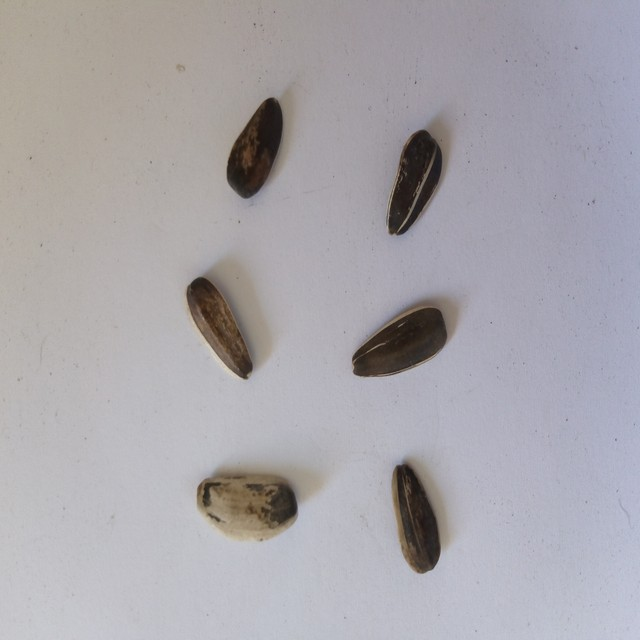girasol: (177, 271, 265, 388), (347, 300, 457, 389), (189, 470, 300, 548), (382, 456, 450, 580), (219, 94, 290, 203), (380, 124, 443, 245)
